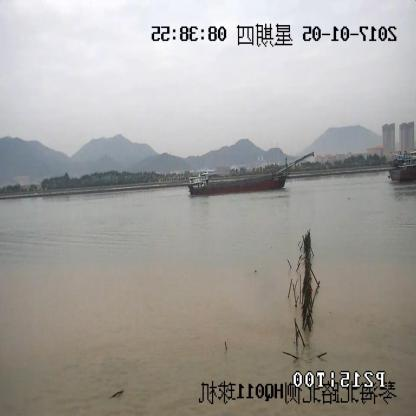Bulk Carrier: (189, 154, 313, 196)
